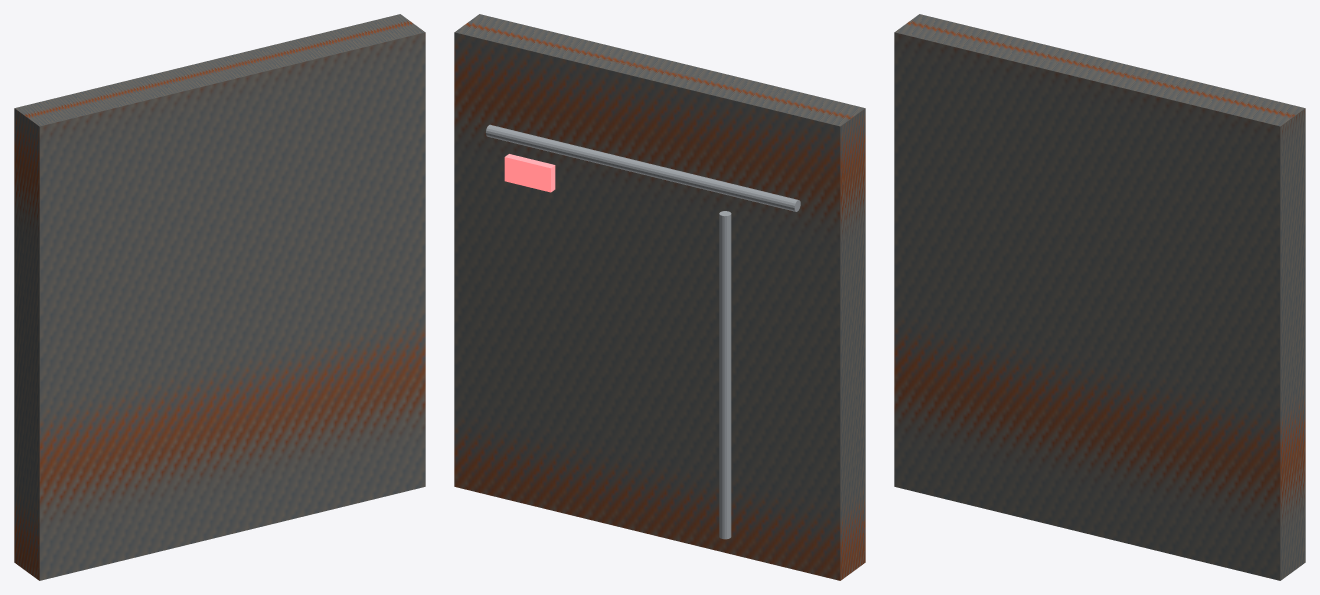
File: wall_light_pipes.glb
The picture shows the model from 3 angles, left to right: view 1: azimuth 30°, elevation 25°; view 2: azimuth 150°, elevation 25°; view 3: azimuth 330°, elevation 25°; orthographic projection.
Visible parts, largest first — view 1: Cube; view 2: Cube, Cylinder.001, Cylinder, Cube.001; view 3: Cube.
Boxes of the visible parts, box(x1,y1,x2,y2) form: Cube: box(14, 14, 425, 580); Cube: box(454, 14, 865, 580); Cylinder.001: box(719, 211, 731, 539); Cylinder: box(486, 124, 800, 211); Cube.001: box(504, 154, 555, 192); Cube: box(894, 14, 1305, 580).
Size of the model in its own units: 4 by 4.5 by 0.605.
3 materials, 1 textured.
